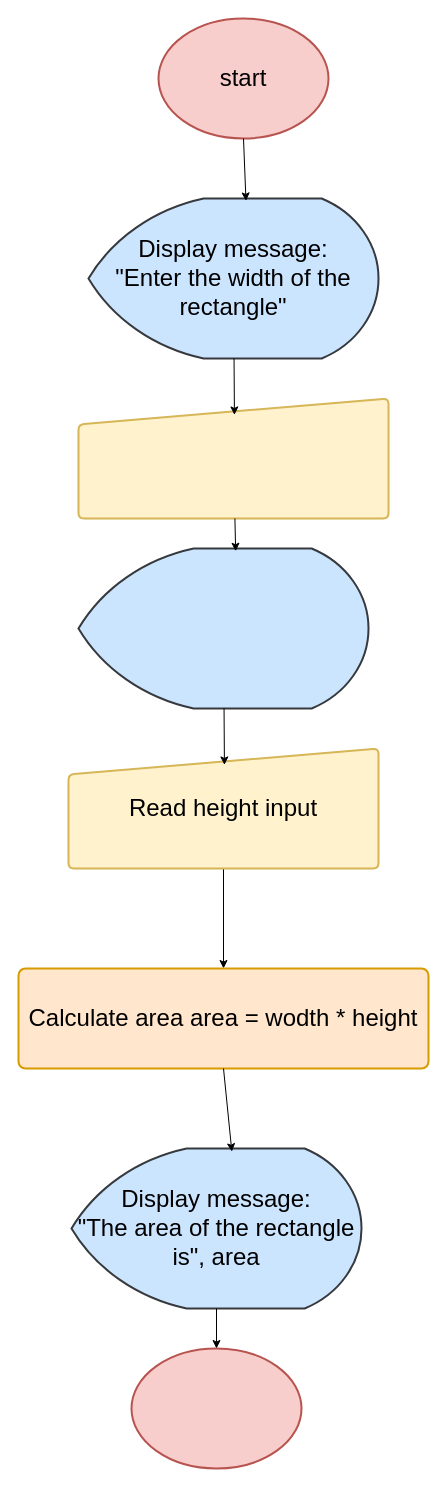
The diagram is 446 pixels wide and 1486 high, and some of its shapes have lost their labels. Here are the shapes that lost their labels. From the top down, the centre of each, then its label:
point 233,458: Read width input
point 223,628: Display message: "Enter the height of the rectangle"
point 216,1408: End
